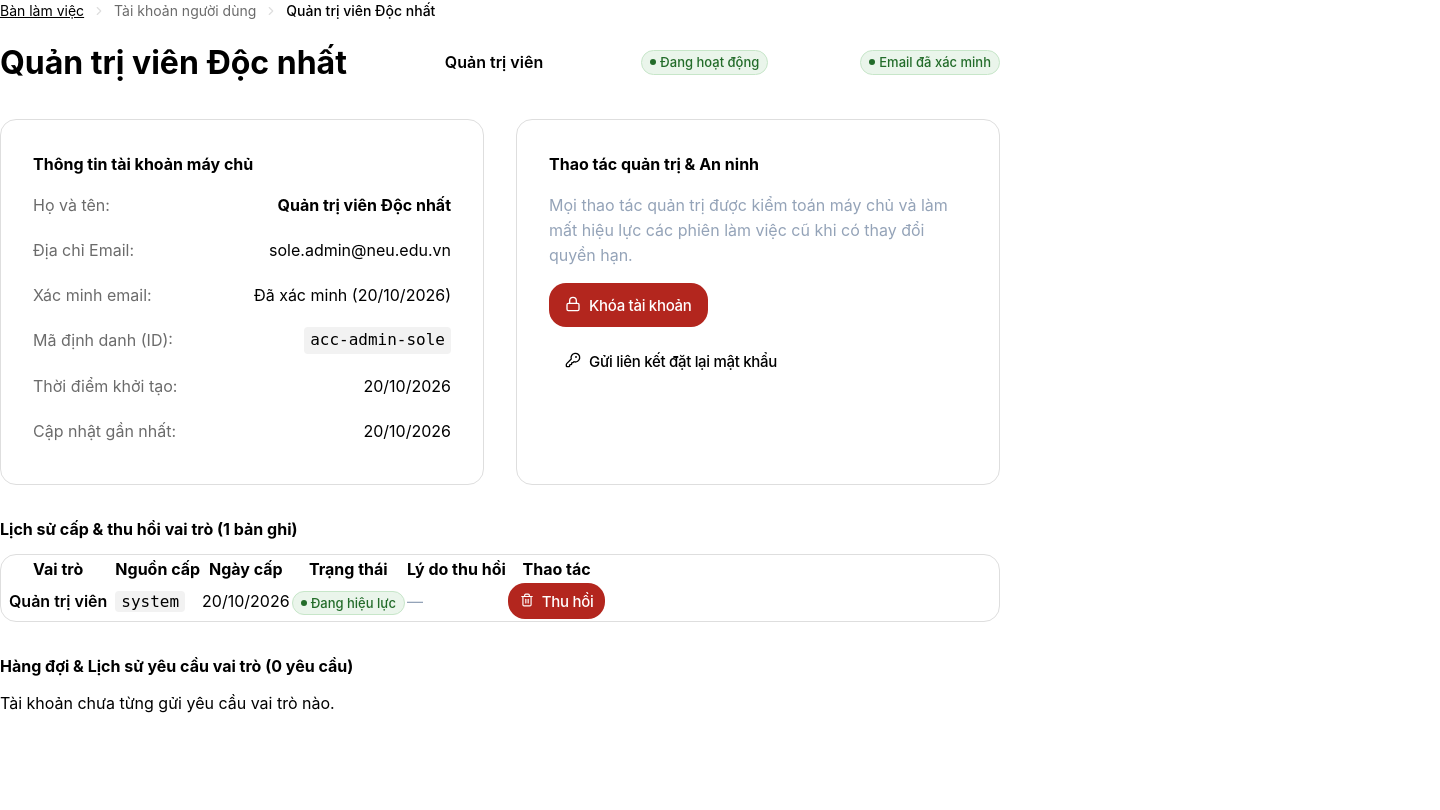
Test: T09 / B05 — Admin UI: Accounts, Detail, Teacher Approvals & Policy Enforcement › AdminAccountDetailPage Component › handles last_active_admin rejection with clear Vietnamese advisory message
Expected: the text "sole.admin@neu.edu.vn" is shown, [269,238,451,263]
Note: Open lock modal
Click the button "Khóa tài khoản" at [628, 306], box [549,284,708,328]
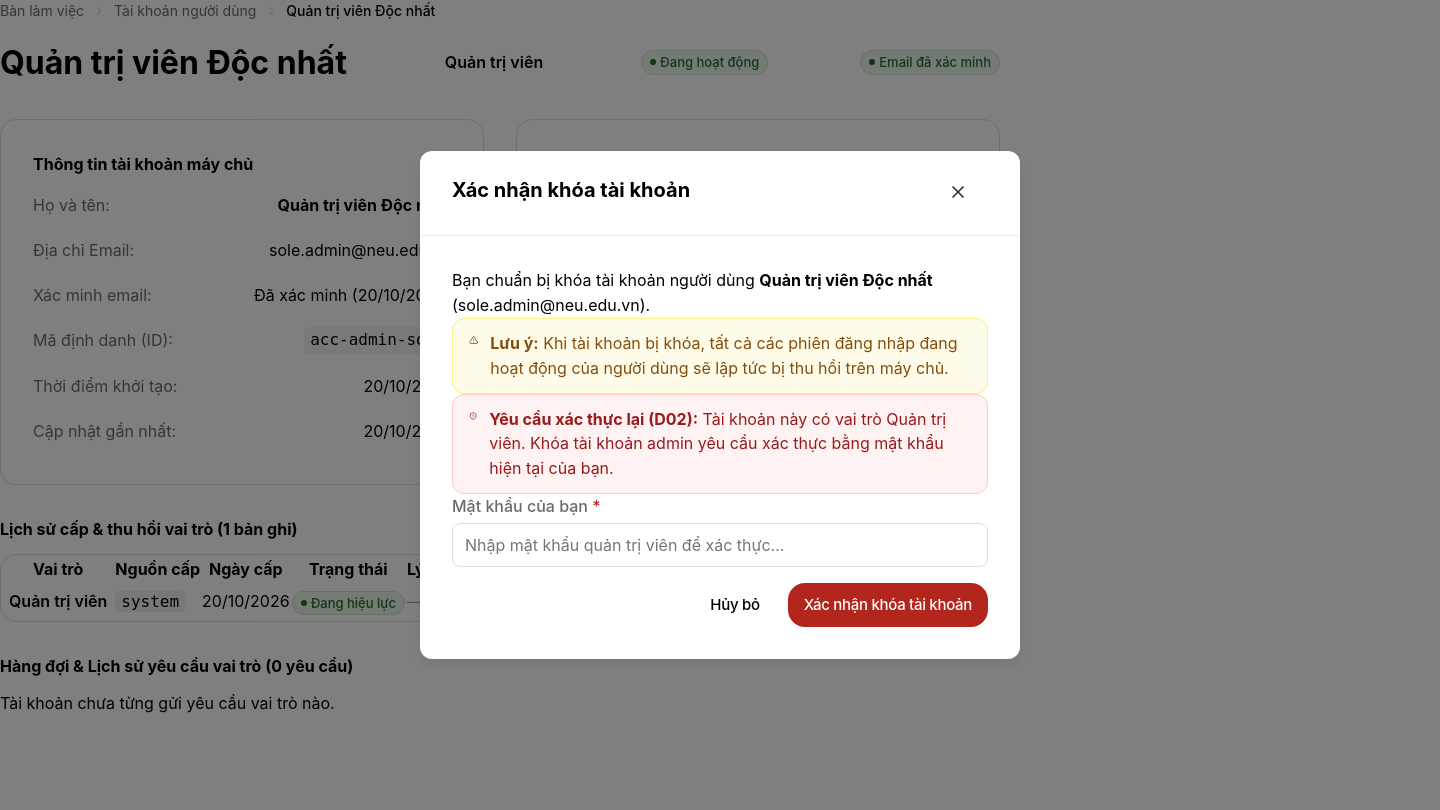
Note: Admin lock requires password
Type "AdminPass123!" into the password field labelled "Mật khẩu của bạn *" at [720, 545], box [452,523,988,567]
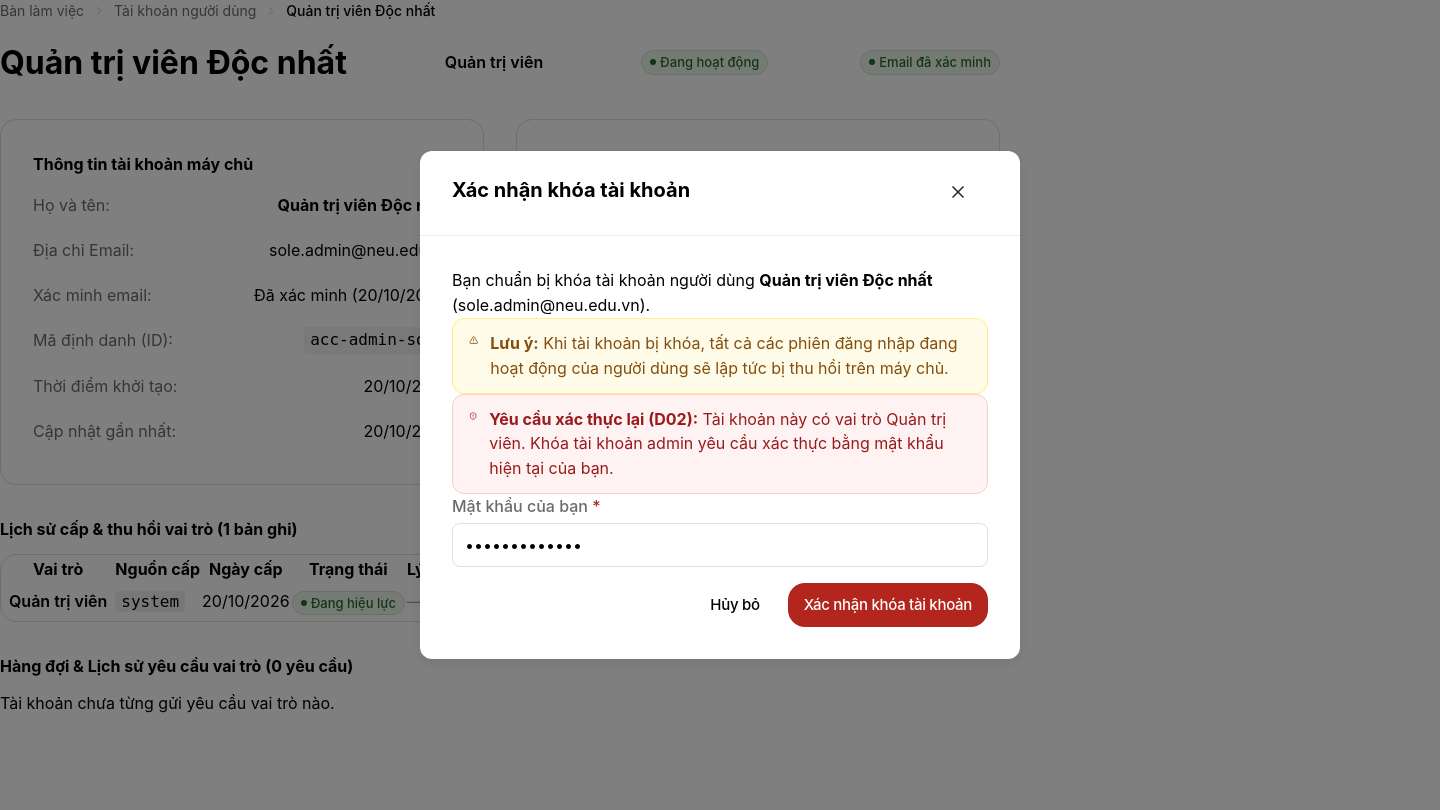
Click the button "Xác nhận khóa tài khoản" at [888, 605], box [788,583,988,627]
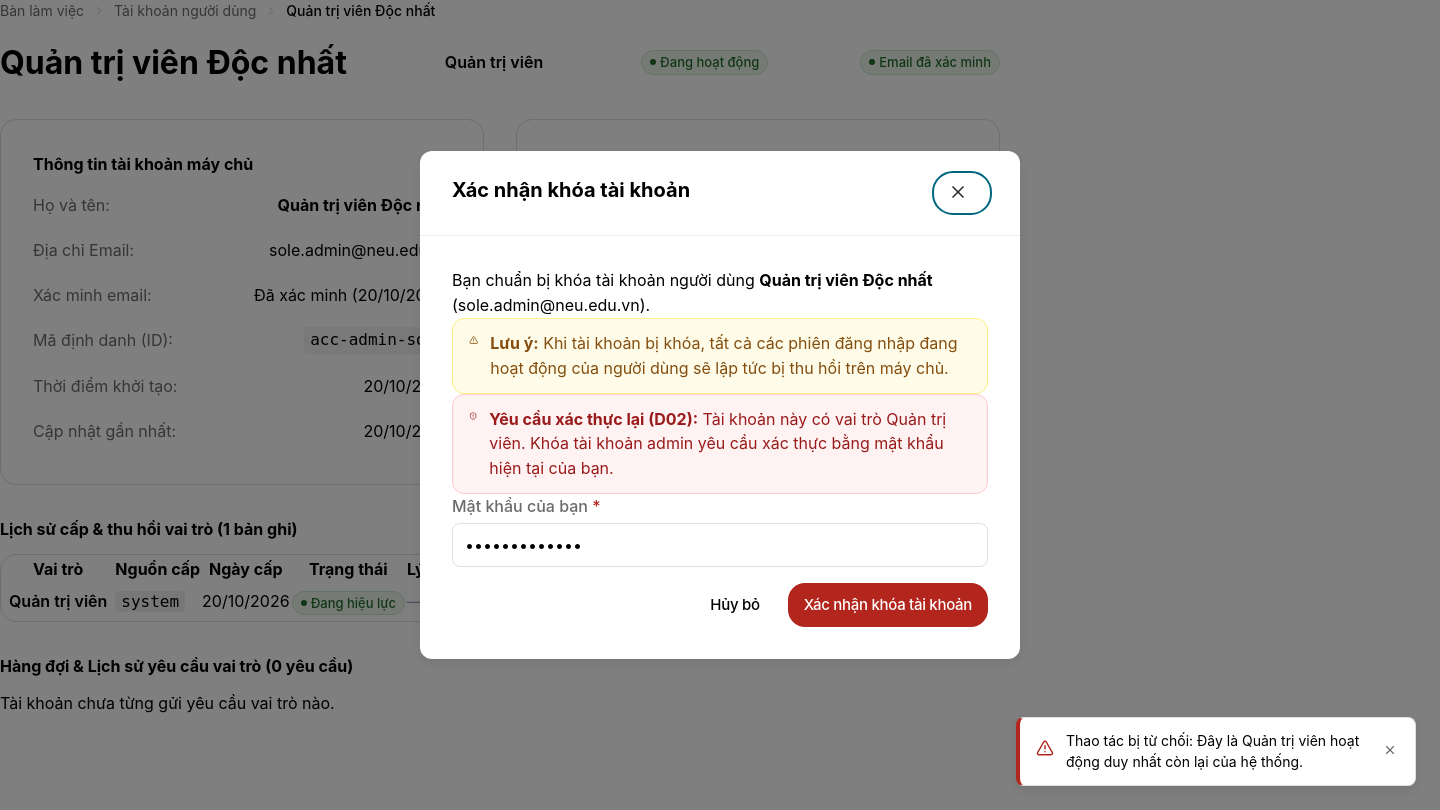
Result: the text "Thao tác bị từ chối: Đây là Quản trị viên hoạt động duy nhất còn lại của hệ thống" is shown at [1066,732,1359,770]
